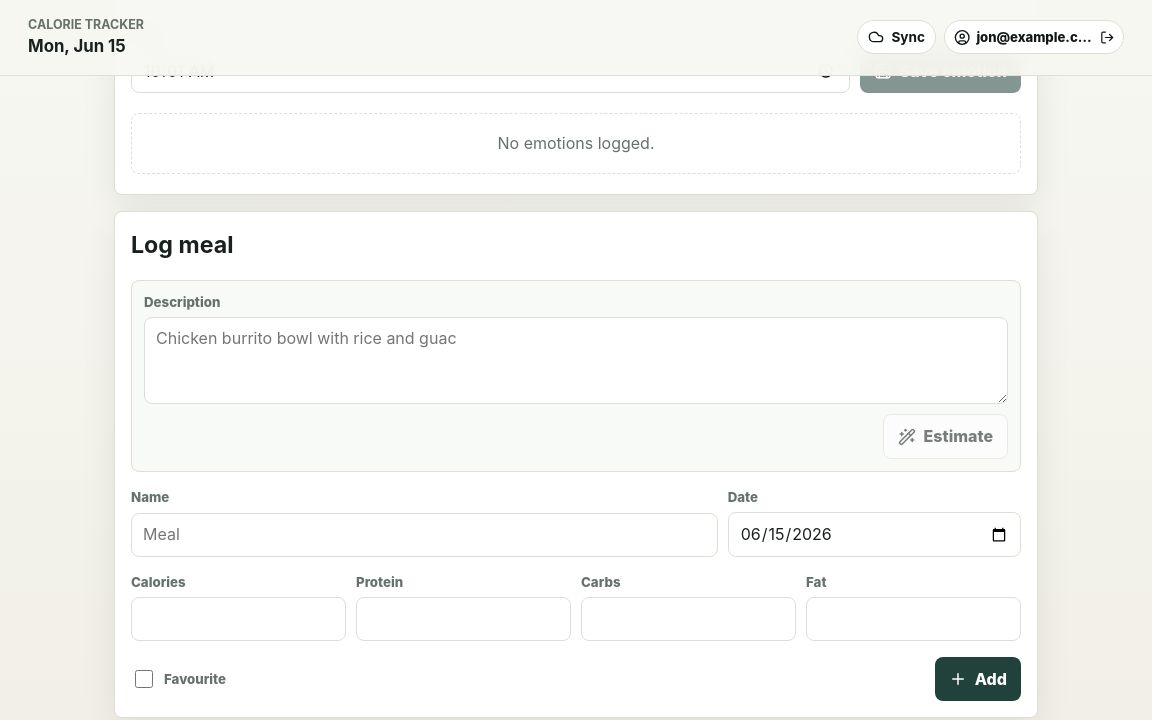
Scenario: TrackerShell › estimates meal macros from a description
(page scrolled)
Type "large chicken rice bowl with guacamole" into the text box labelled "Description" at [576, 361], box [144,317,1008,404]
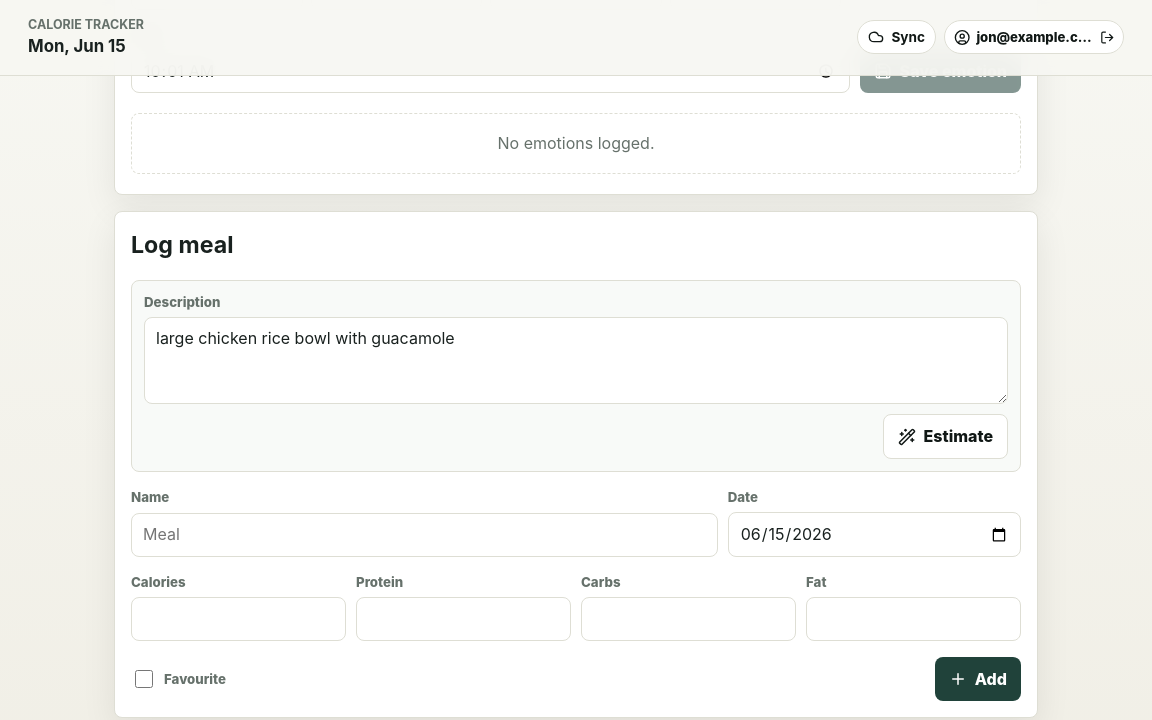
Click the button with aria-label "Estimate macros" at [945, 437], box [883,414,1008,459]
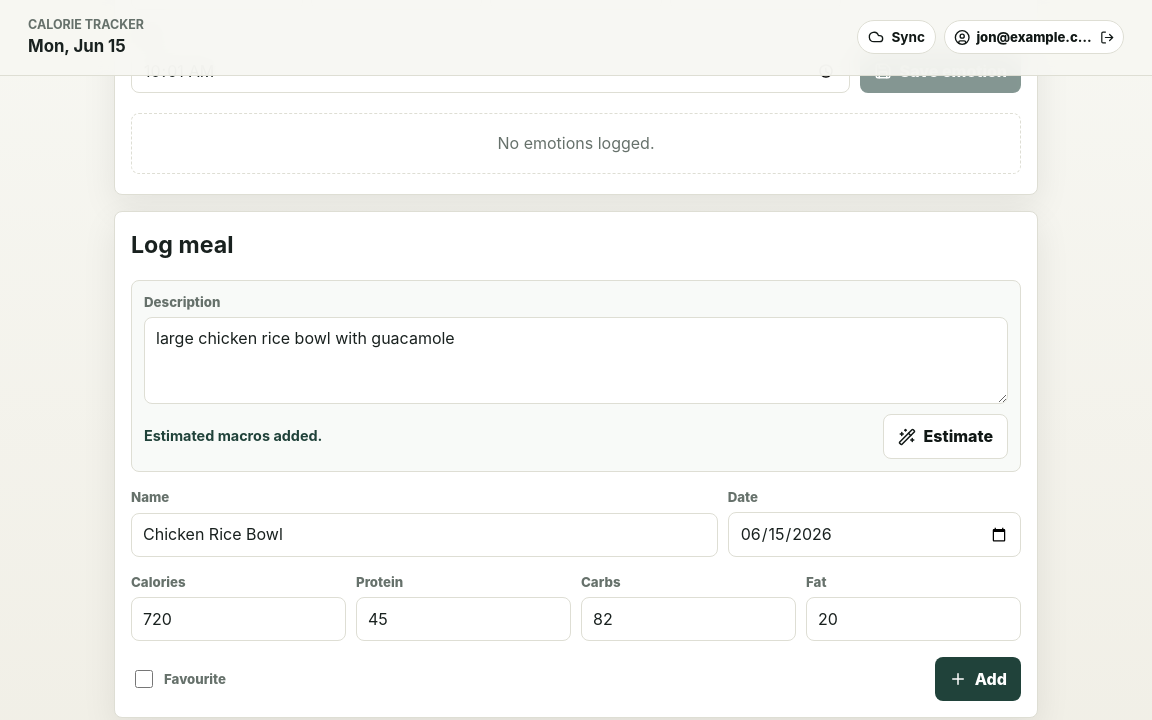
Check: the text "Estimated macros added." is shown, box [144,428,322,444]
Check: the field labelled "Name" holds "Chicken Rice Bowl", box [131,512,718,557]
Check: the number field labelled "Calories" holds "720", box [131,597,346,641]
